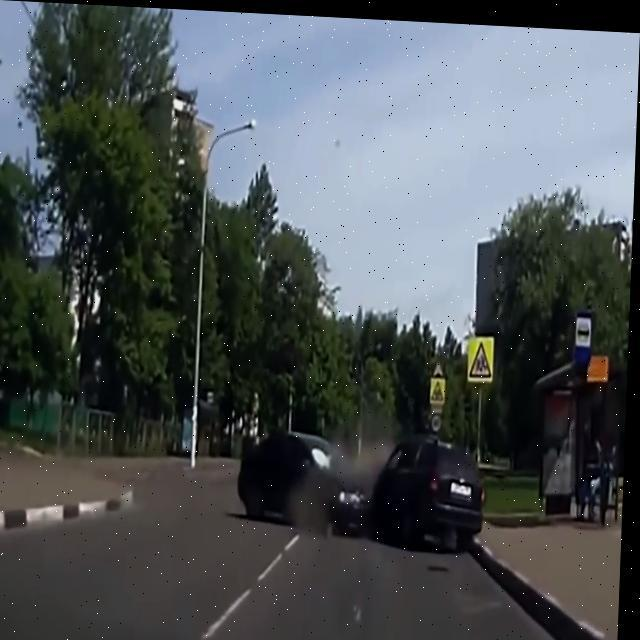multiple_accident: (223, 422, 493, 546)
